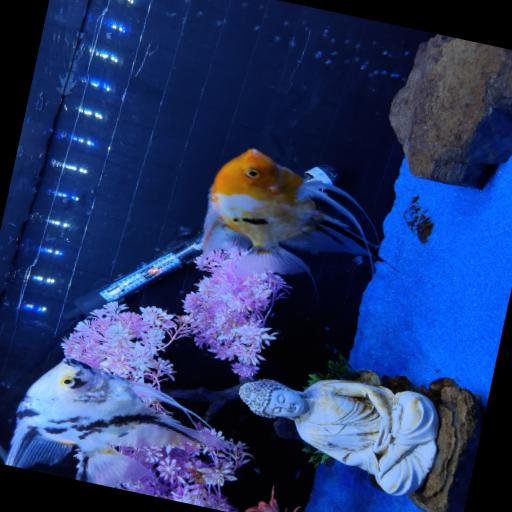Fish: (6, 358, 227, 487), (204, 149, 377, 276)
